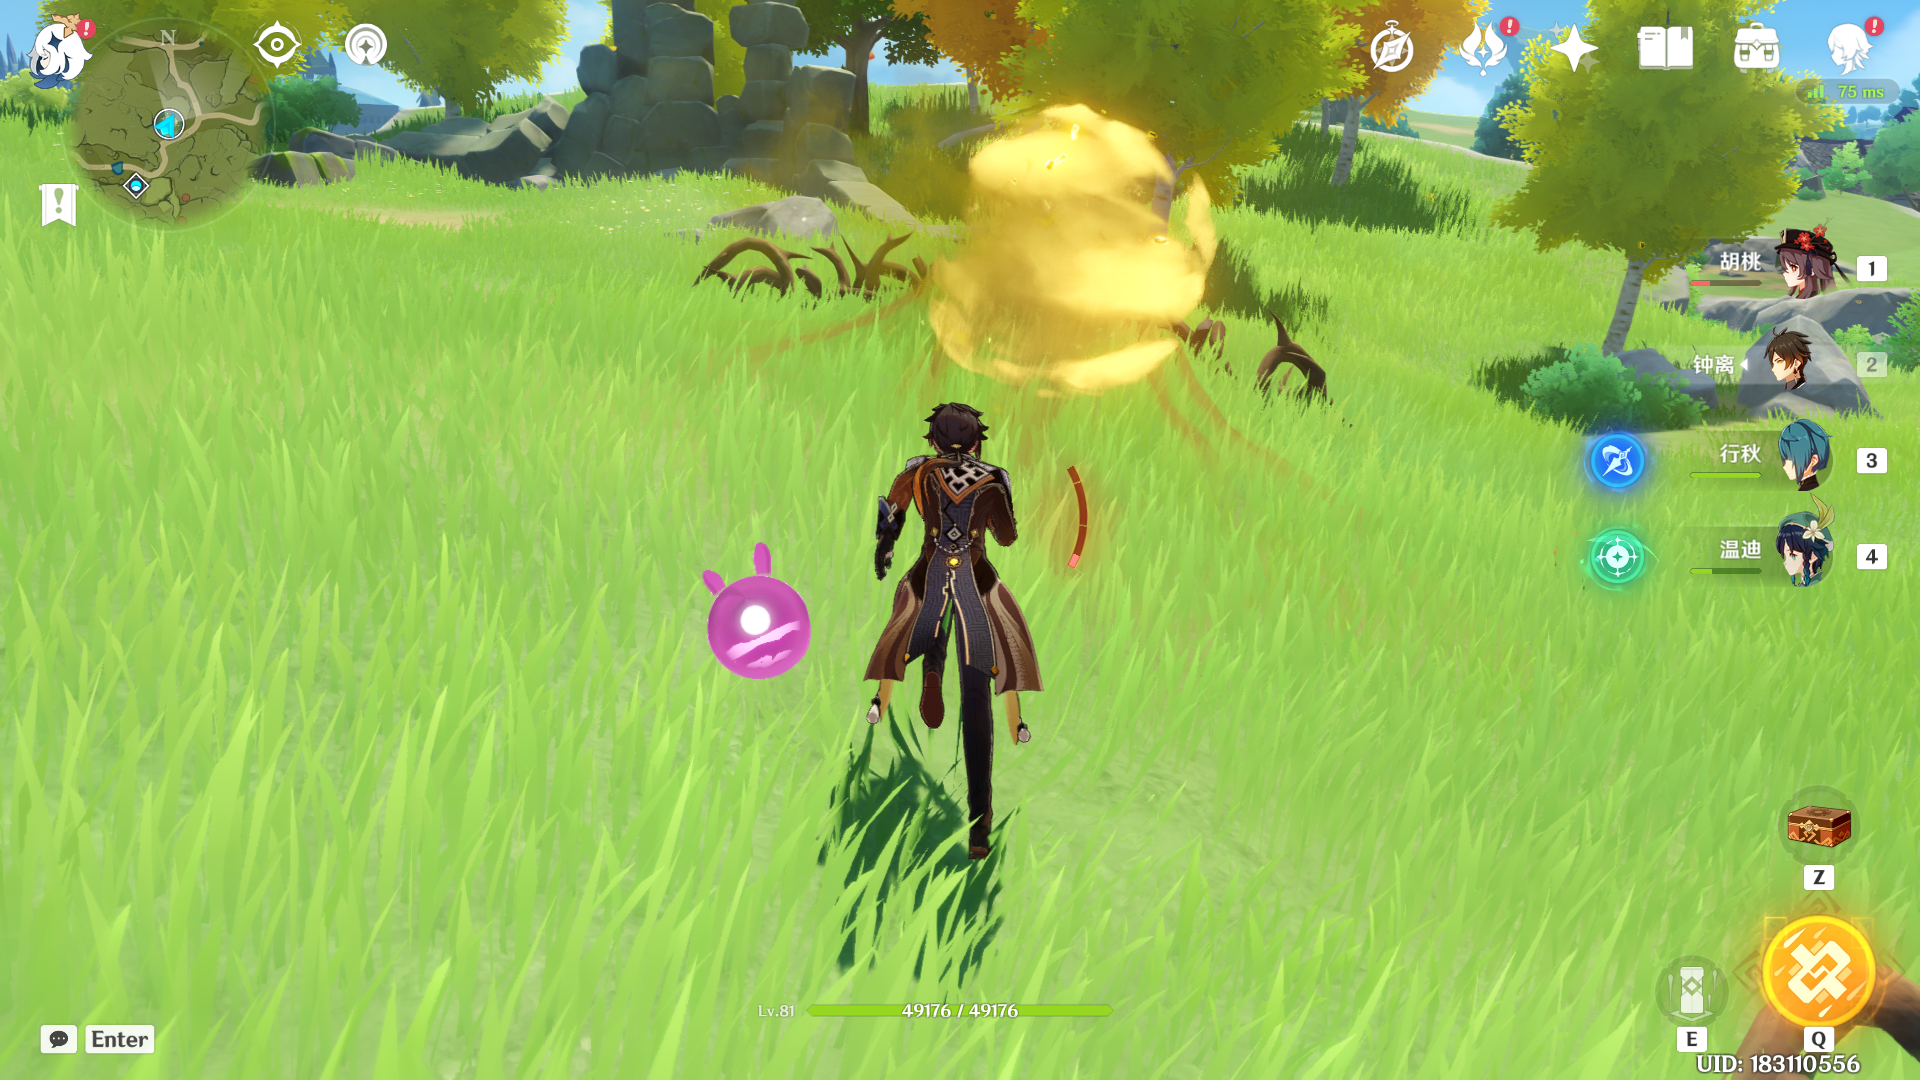character: (815, 364, 1120, 885)
